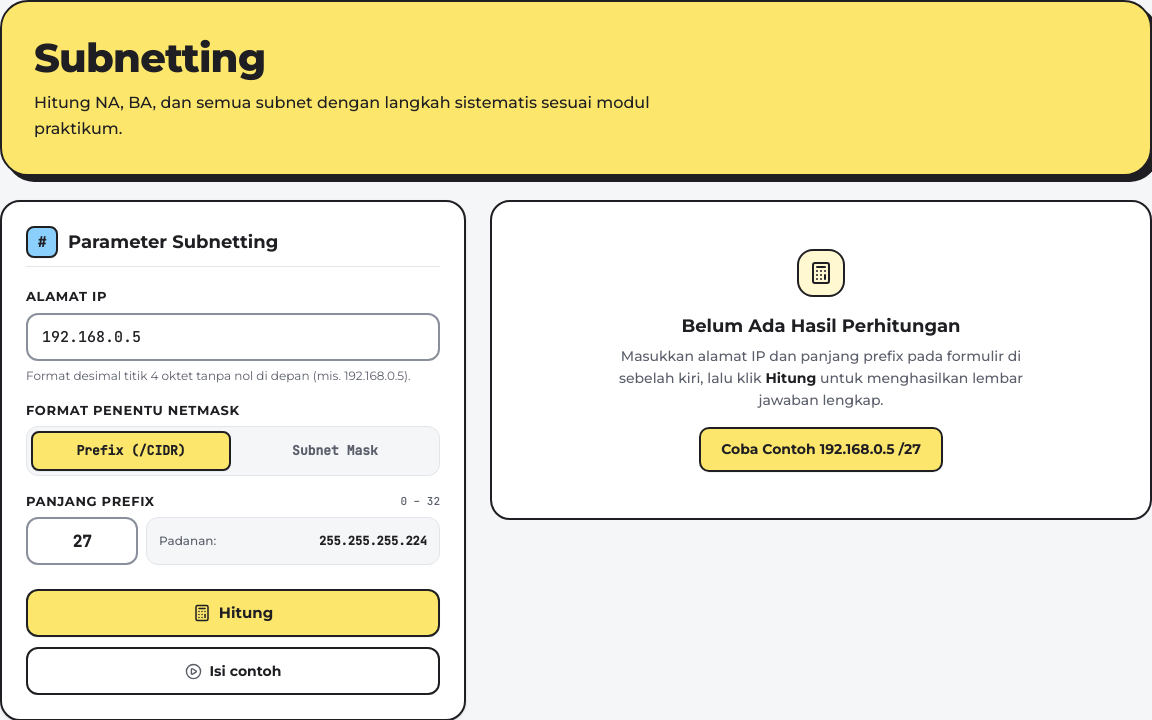
Test case: Halaman Subnetting › menampilkan pesan validasi jika alamat IP kosong
Clear the field labelled "Alamat IP" at {"x": 233, "y": 336}, box [26, 312, 440, 360]
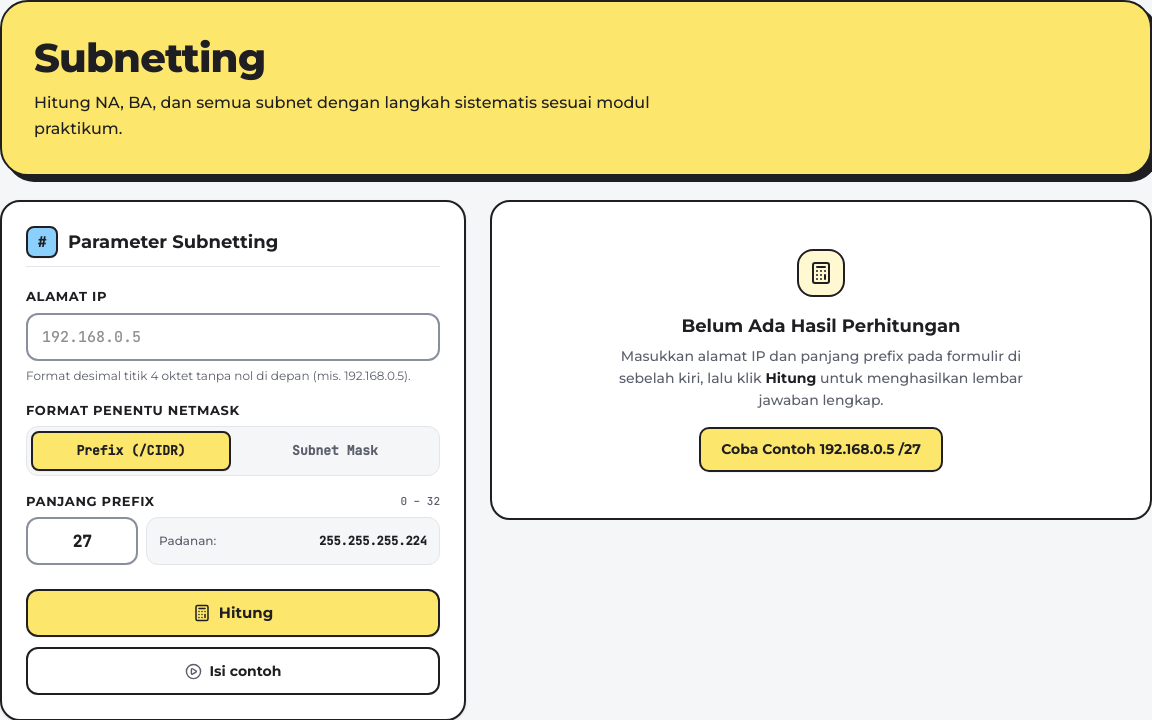
Click the button "Hitung".
click(233, 613)  # box [26, 589, 440, 637]
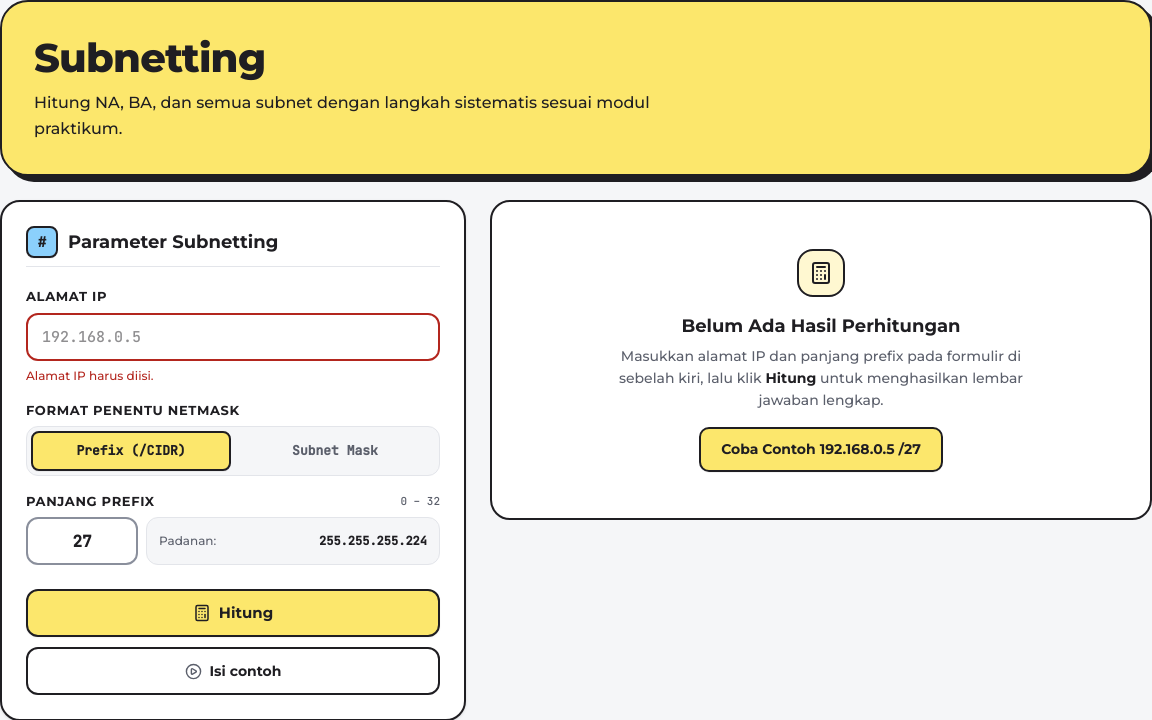
Now the text "Alamat IP harus diisi." is shown, box [26, 368, 154, 382]
